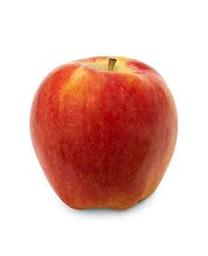apple: (28, 55, 177, 209)
